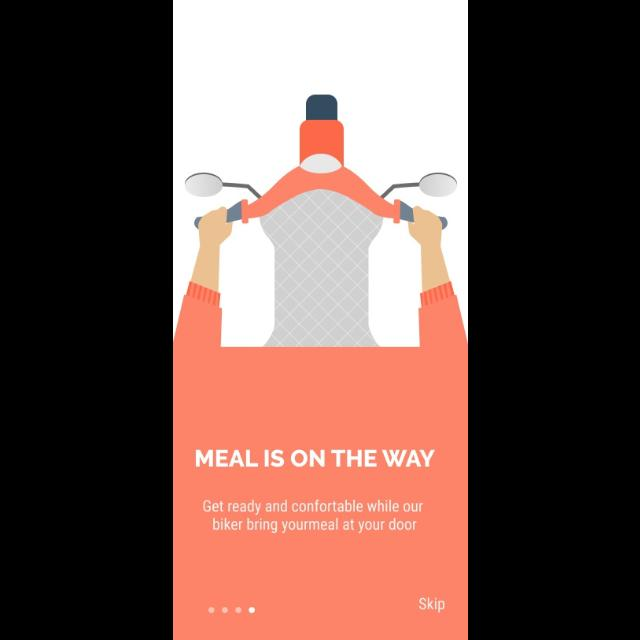image: (173, 95, 467, 347)
pageindicator: (208, 606, 256, 614)
text: (202, 499, 424, 533), (196, 449, 434, 467), (418, 597, 444, 613)
